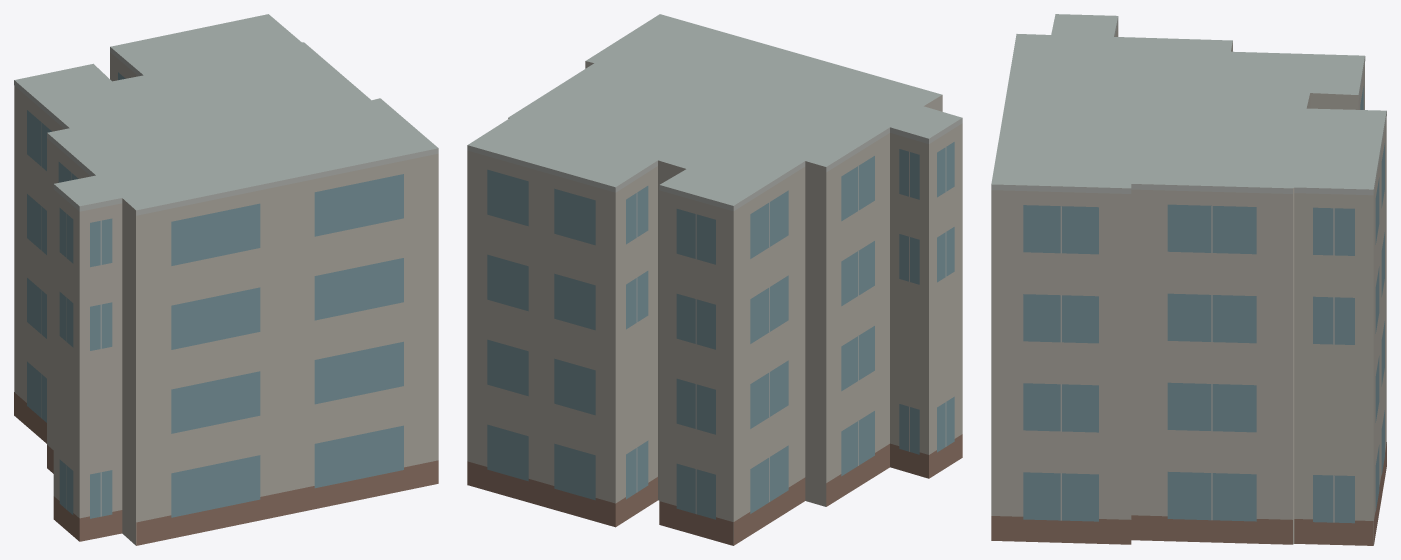
The model's file is survey-upis-32833049.glb.
3 renders of one model, left to right at view 1: azimuth 30°, elevation 25°; view 2: azimuth 150°, elevation 25°; view 3: azimuth 270°, elevation 25°, orthographic. The views are drawn at different scales.
Visible parts, largest first — view 1: survey-upis-32833049.tmp; view 2: survey-upis-32833049.tmp; view 3: survey-upis-32833049.tmp.
Part boxes in pixels (x1,y1,x2,y2): survey-upis-32833049.tmp: (14,14,438,545); survey-upis-32833049.tmp: (467,14,962,545); survey-upis-32833049.tmp: (991,14,1386,545).
Size of the model in its own units: 16.11 by 15.23 by 15.33.
